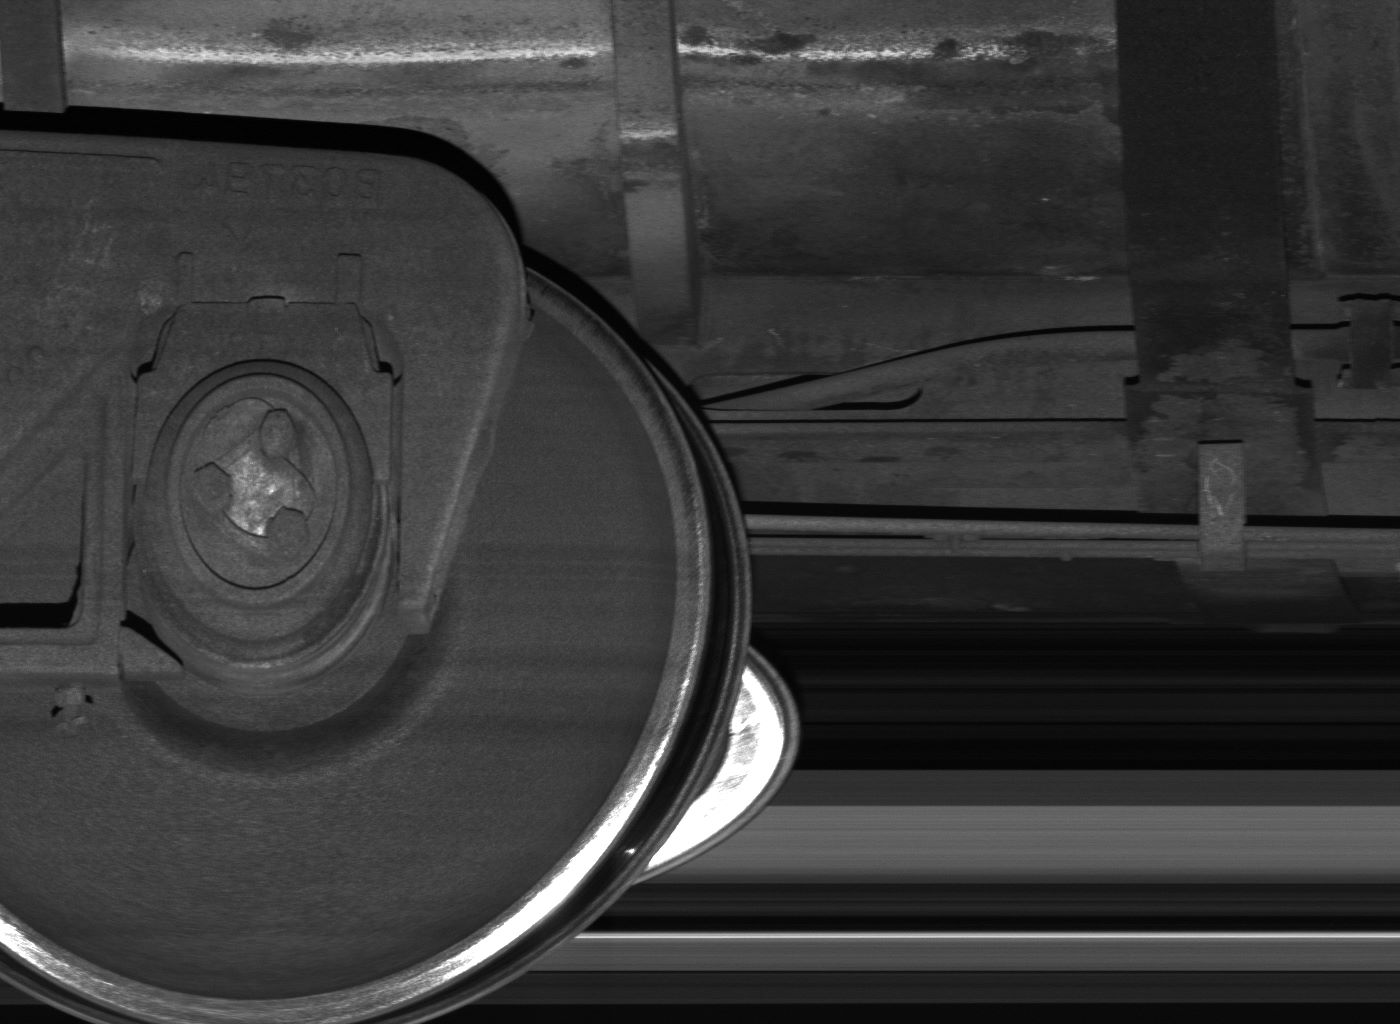normal: (1200, 442, 1255, 573)
